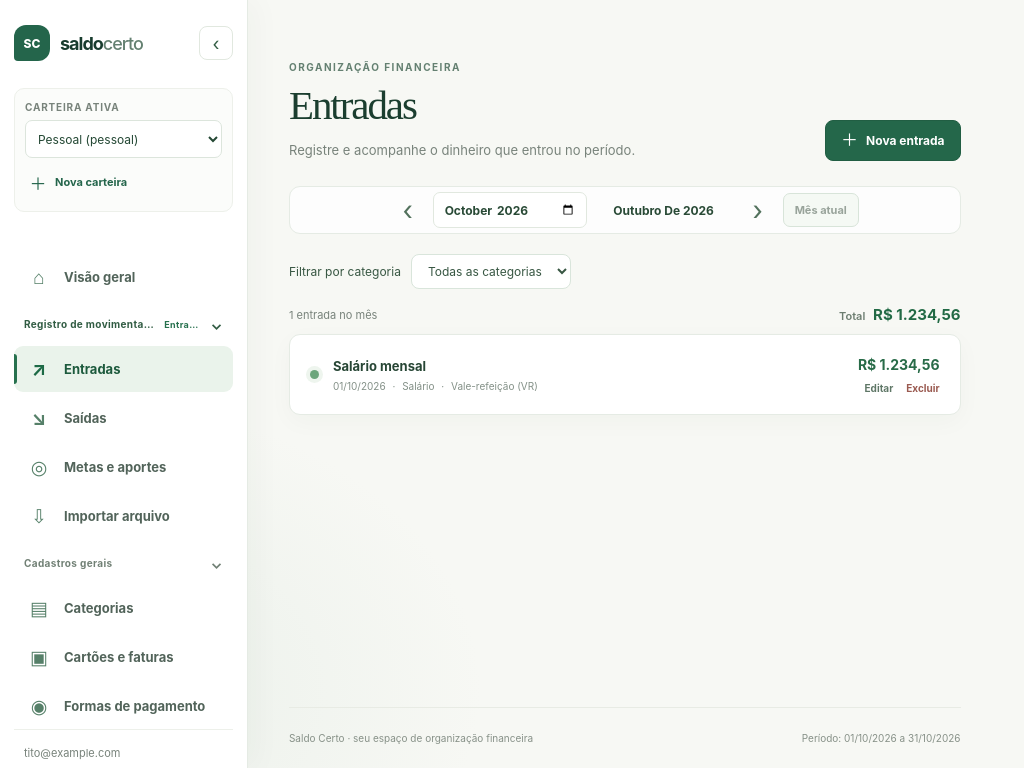
Test: IncomesPage currency input › explains the historical destination without changing a legacy benefit income
This screenshot has width=1024, height=768.
Check: the dropdown labelled "Carteira ativa" is shown, box [25,120,222,158]
Click the button with aria-label "Editar entrada Salário mensal" at (879, 388), box [864,382,893,394]
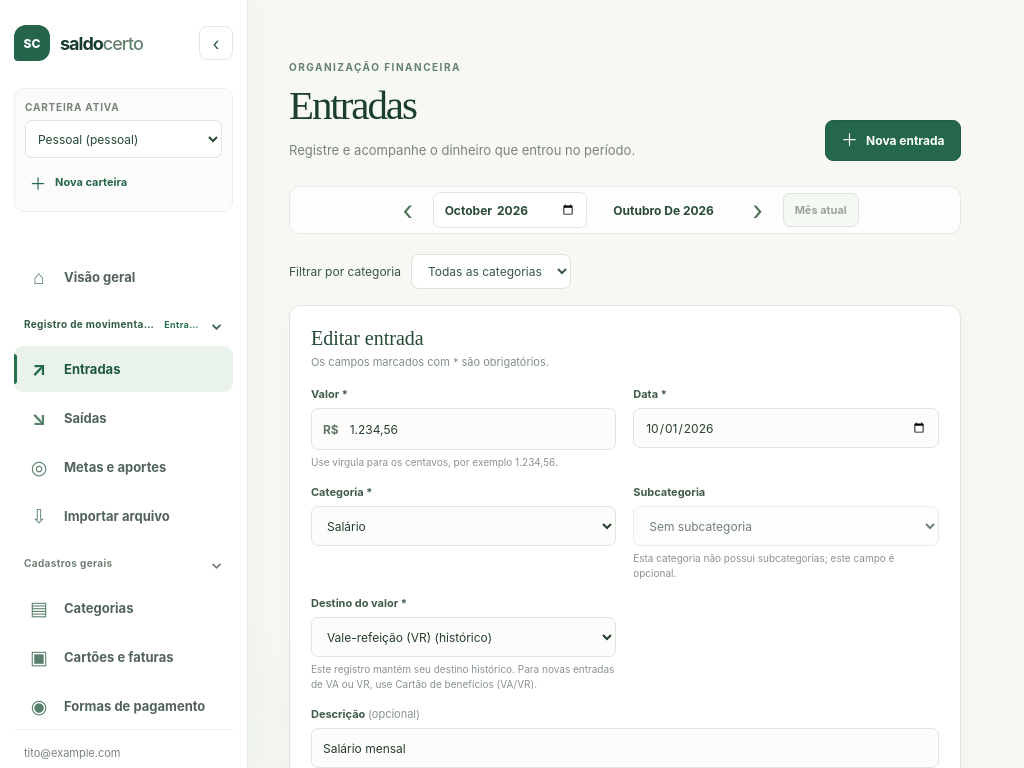
Check: the dropdown labelled "Destino do valor *" shows "Vale-refeição (VR) (histórico)", box [311,617,616,657]
